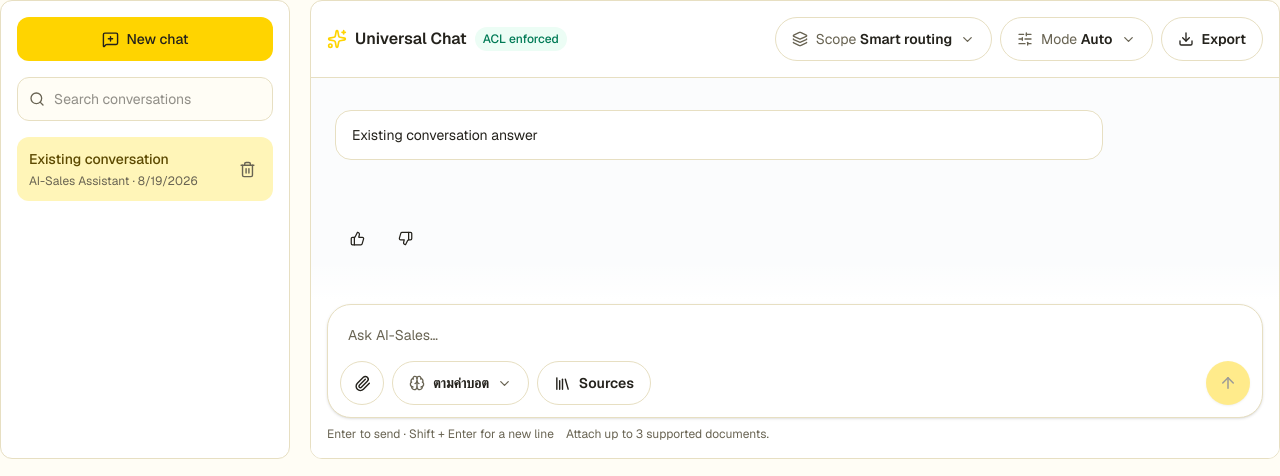
Test: universal chat navigation › shows the saved state after helpful feedback is submitted
Click the button named "Helpful answer": click(357, 238) [335,216,379,260]
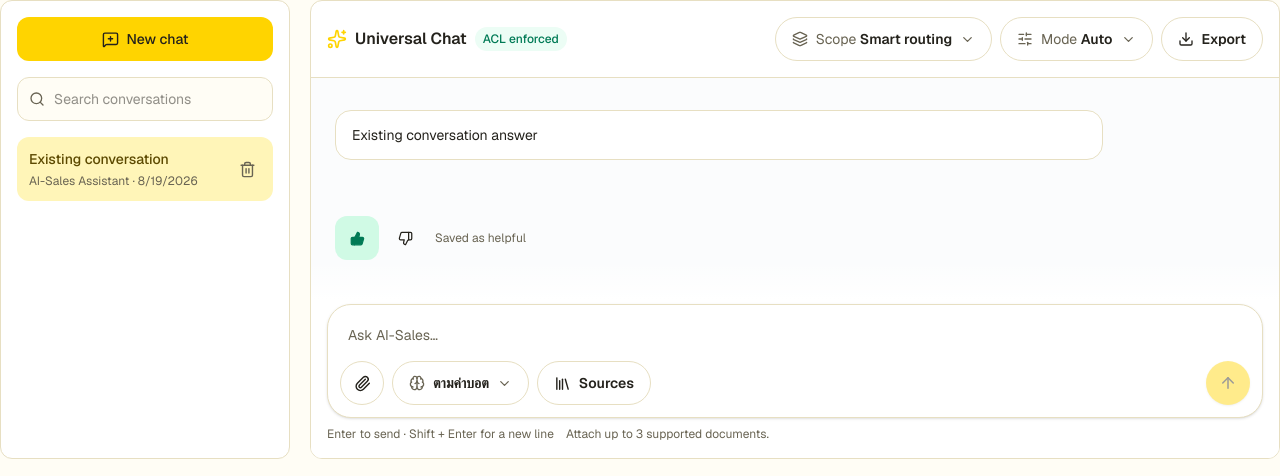
Now the message reads "Saved as helpful", box [435,230,526,246]
